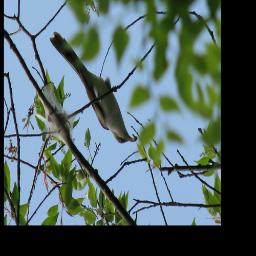Cuckoo: (49, 35, 136, 146)
